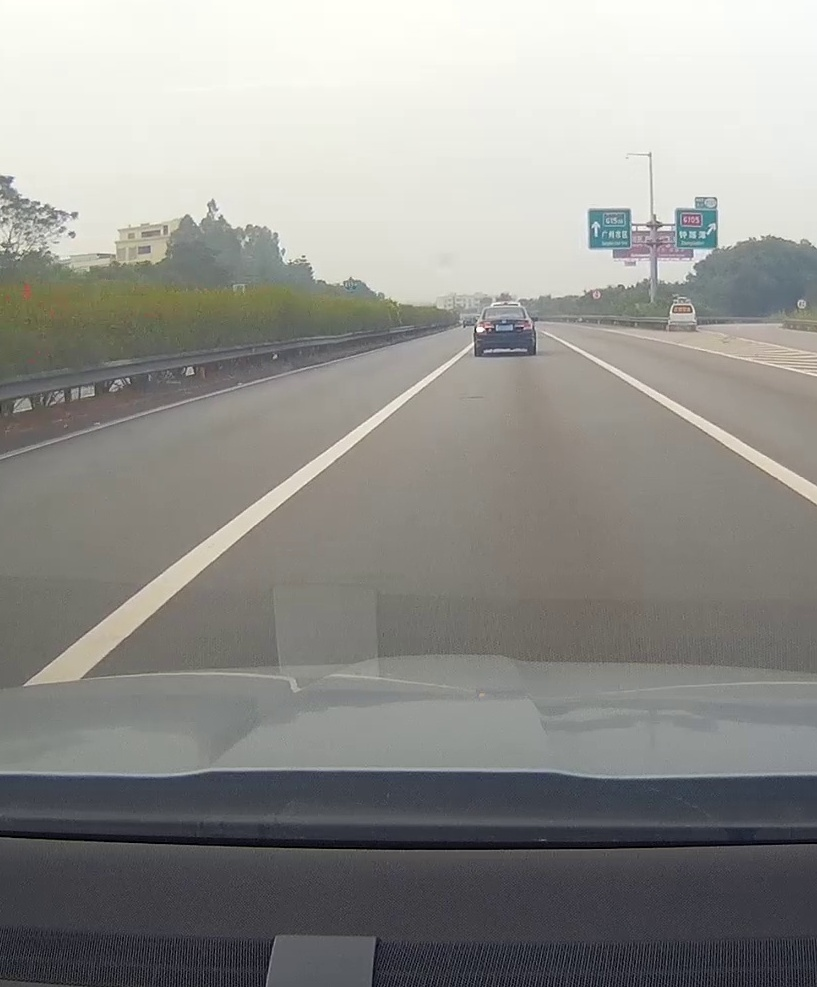L_light: (475, 324, 494, 332)
R_light: (515, 322, 532, 330)
T_light: (500, 308, 508, 311)
day-left: (473, 305, 536, 356)
